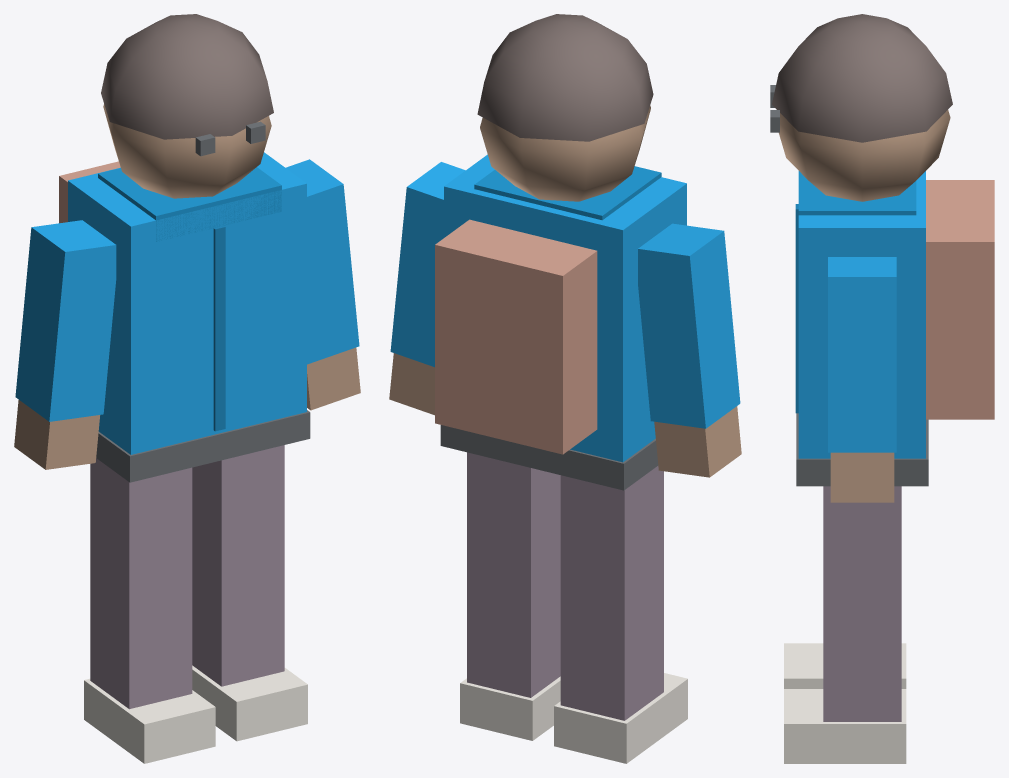
Rendered from actor_0.glb.
3 views of the same model, side by side, from view 1: azimuth 30°, elevation 25°; view 2: azimuth 150°, elevation 25°; view 3: azimuth 270°, elevation 25° (orthographic).
Parts seen in each view (by area): view 1: pedestrian:cffffff, leg_0:cffffff, leg_1:cffffff, arm_0:cffffff, arm_1:cffffff; view 2: pedestrian:cffffff, leg_0:cffffff, leg_1:cffffff, arm_0:cffffff, arm_1:cffffff; view 3: pedestrian:cffffff, leg_1:cffffff, arm_1:cffffff, leg_0:cffffff.
Part boxes in pixels (x1,y1,x2,y2): pedestrian:cffffff: (59,14,310,482); leg_0:cffffff: (84,458,215,763); leg_1:cffffff: (192,445,307,741); arm_0:cffffff: (14,220,116,469); arm_1:cffffff: (285,159,360,410); pedestrian:cffffff: (435,14,686,490); leg_0:cffffff: (554,466,687,763); leg_1:cffffff: (460,452,560,740); arm_0:cffffff: (638,223,741,477); arm_1:cffffff: (389,162,465,415); pedestrian:cffffff: (770,14,994,486); leg_1:cffffff: (784,486,906,763); arm_1:cffffff: (828,257,896,502); leg_0:cffffff: (784,643,906,688).
Size of the model in its own units: 0.7512 by 1.58 by 0.458.
